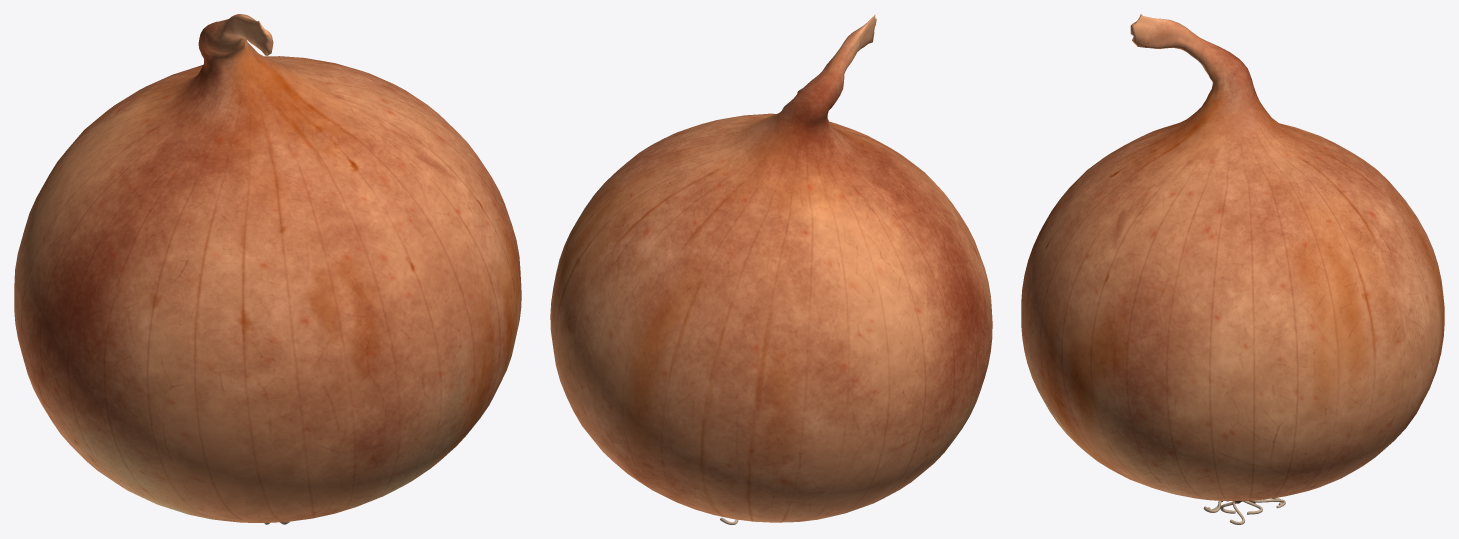
File: onion.glb
3 views of the same model, side by side, from view 1: azimuth 30°, elevation 25°; view 2: azimuth 150°, elevation 25°; view 3: azimuth 270°, elevation 25° (orthographic). The views are drawn at different scales.
Visible parts, largest first — view 1: node_id35_1; view 2: node_id35_1; view 3: node_id35_1.
Boxes of the visible parts, box(x1,y1,x2,y2) form: node_id35_1: box(14, 14, 521, 524); node_id35_1: box(550, 14, 992, 524); node_id35_1: box(1021, 14, 1444, 524).
Size of the model in its own units: 0.4425 by 0.5394 by 0.4422.
1 material, 1 textured.
